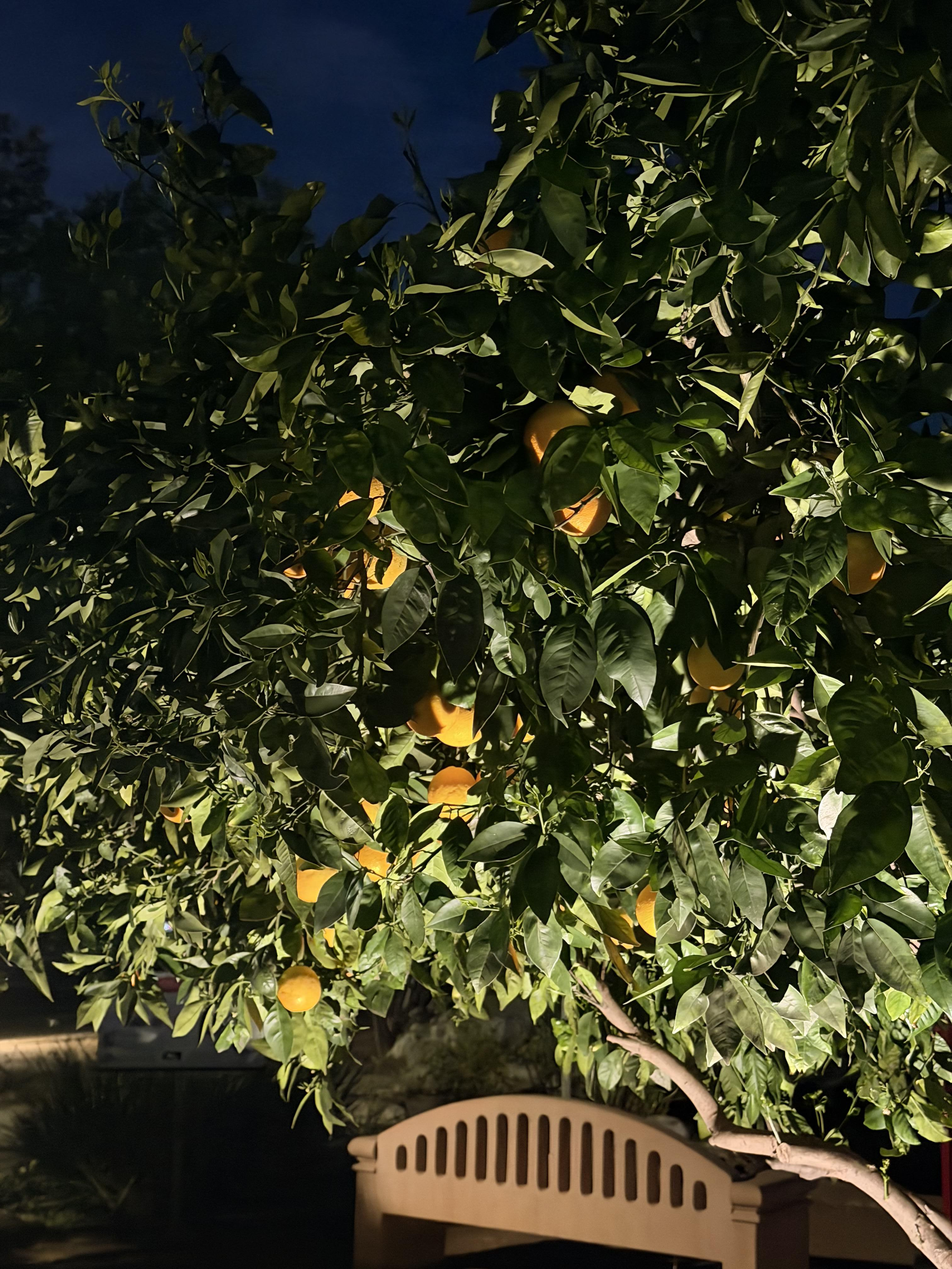orange: (524, 400, 591, 468), (347, 524, 408, 589), (831, 533, 887, 594), (406, 678, 459, 736), (553, 487, 612, 537), (688, 641, 745, 691), (427, 767, 477, 822), (689, 686, 742, 731), (277, 965, 321, 1012), (296, 855, 340, 902), (338, 479, 385, 522), (593, 375, 640, 416), (436, 704, 480, 746), (354, 846, 390, 880), (636, 884, 659, 937)
